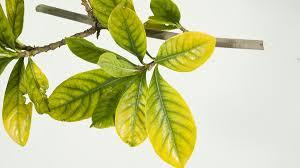healthy_leaf: (0, 0, 199, 162)
